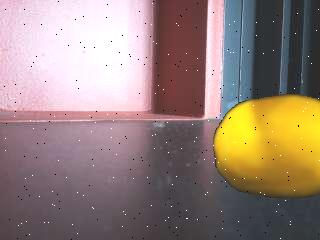Lemon: (211, 93, 320, 200)
